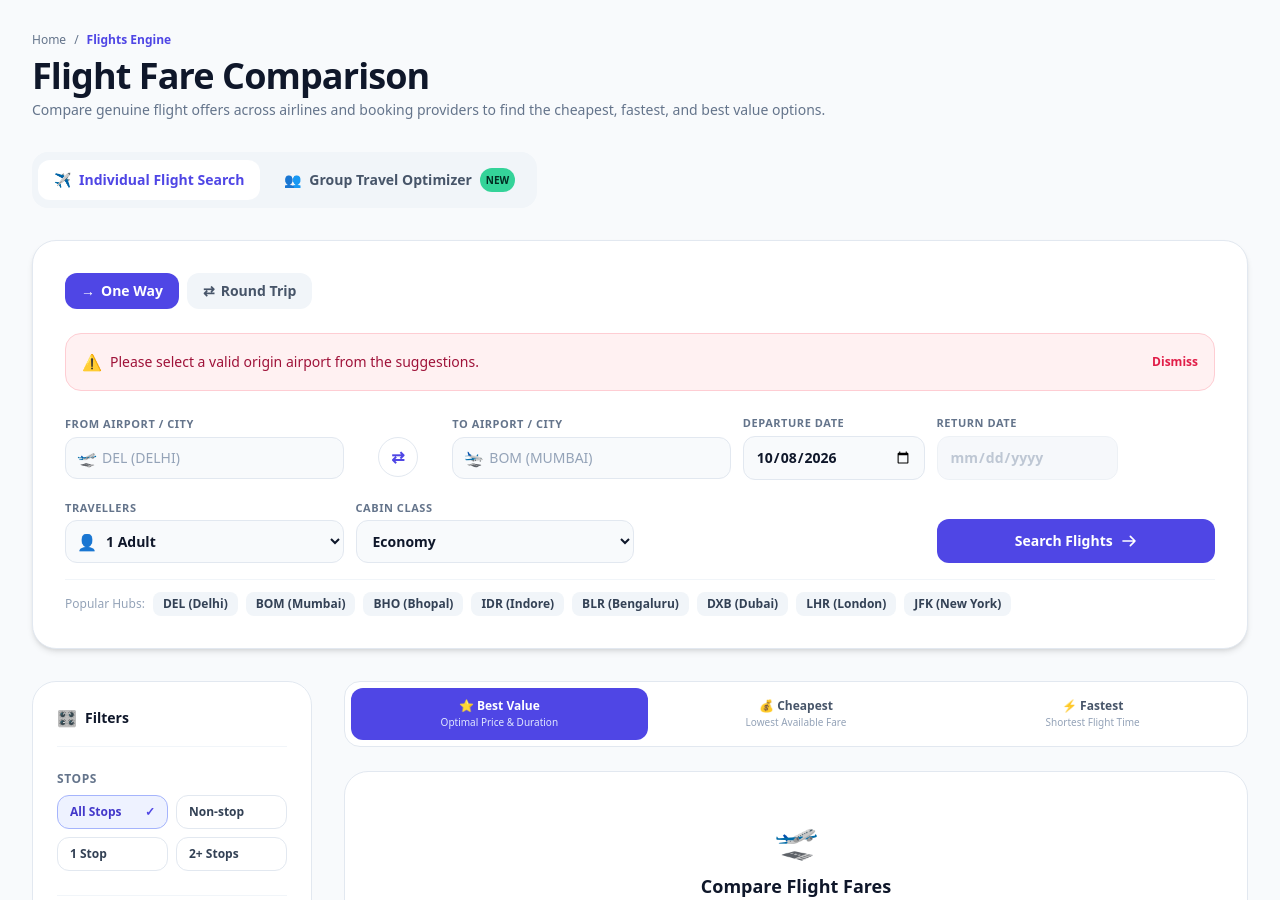
Part 4: Flights Comparison Engine › 1. Flight Search UI › renders Trip Type toggle (One Way / Round Trip) and toggles return date field
Check: the button "→ One Way" is shown, box [65,273,179,309]
Check: the date field with placeholder "One Way trip" is disabled, box [936,436,1118,480]
// Switch to round trip
Step 1. Click the button "⇄ Round Trip" → (250, 291), box [187,273,312,309]
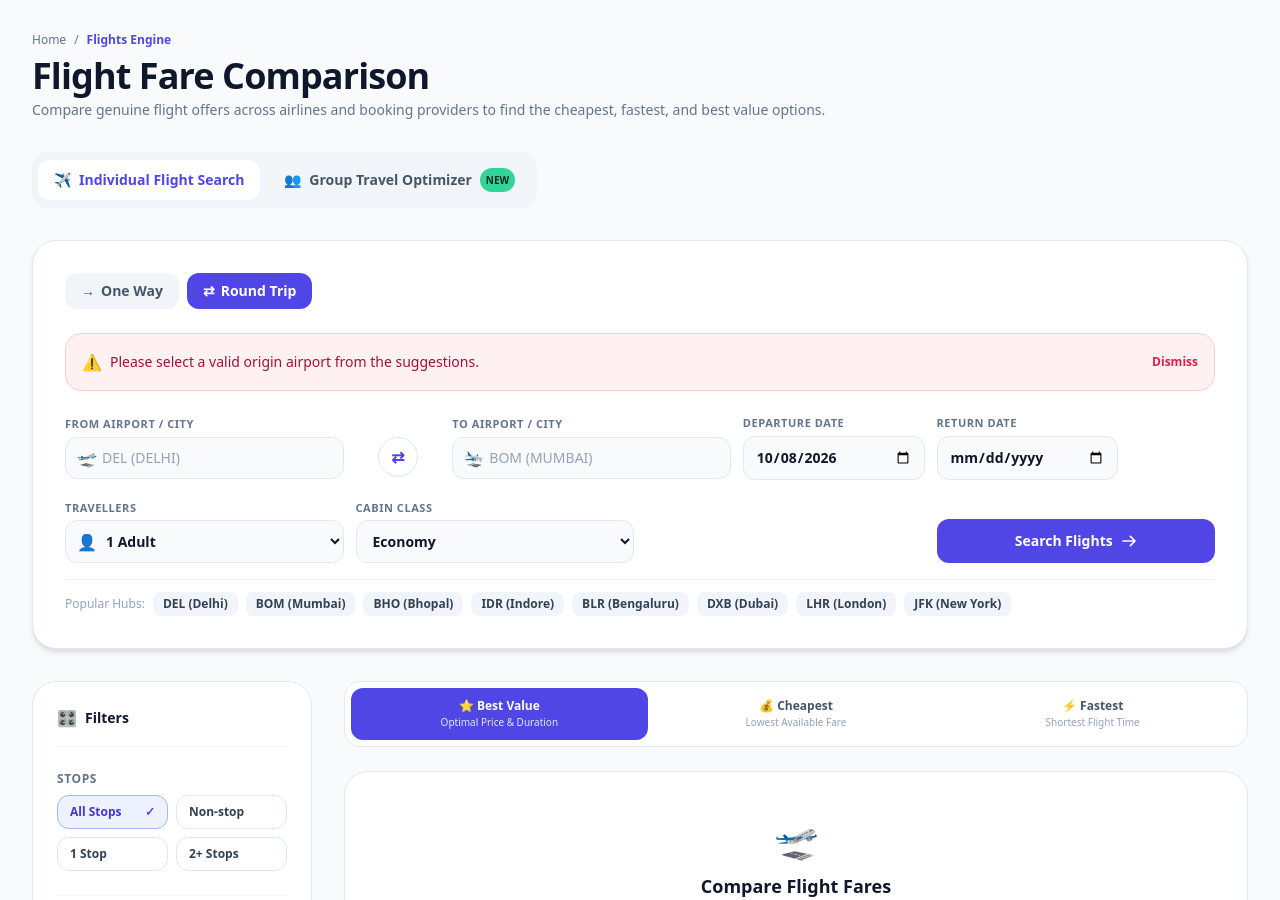
Check: the date field with placeholder "One Way trip" is enabled, box [936,436,1118,480]
